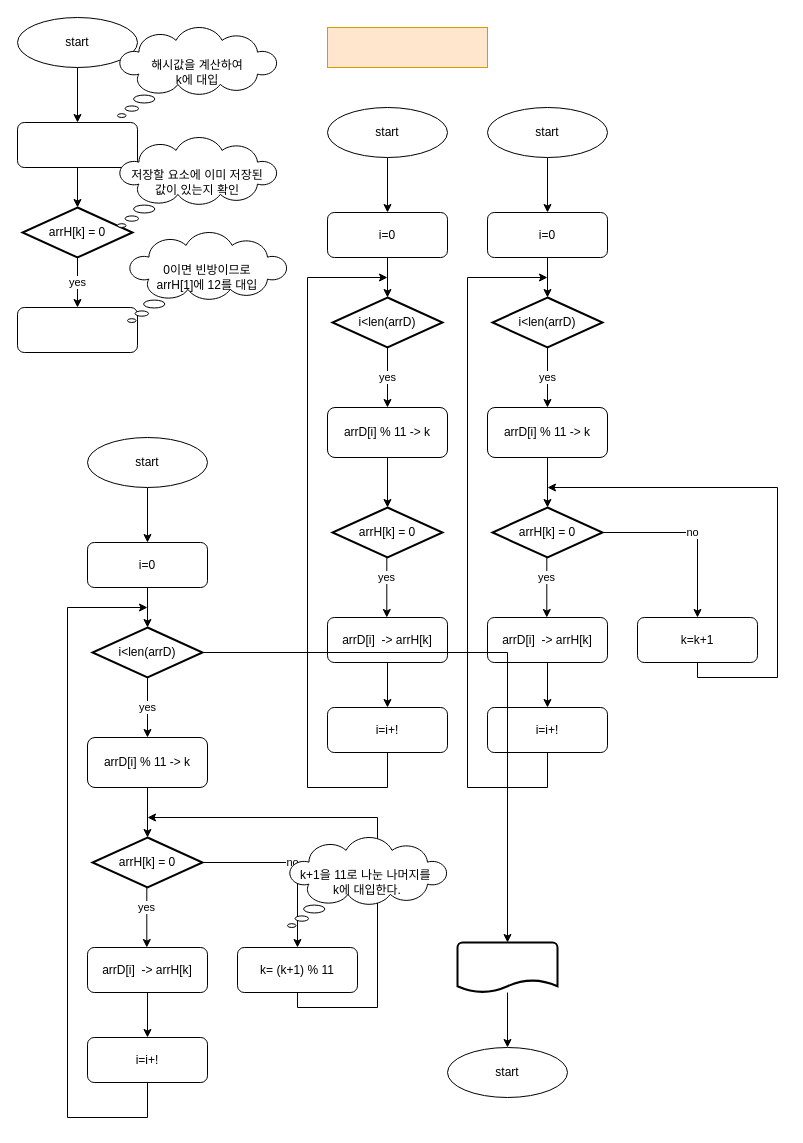
This 803x1143 diagram has some shape labels left out. Here are the shapes that lost their labels. From the top down, the centre of each, then its label:
At pixel 407 47: "해시 탐색법".
At pixel 77 145: "arrD[0] % 11 -> k".
At pixel 77 329: "arrD[0] -> arrH[k]".
At pixel 507 967: "arrH".
